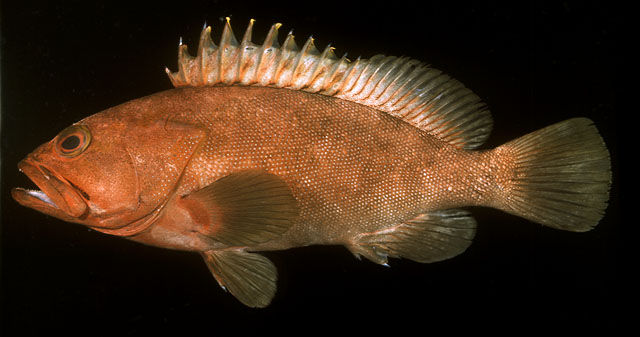fish: (10, 12, 614, 309)
